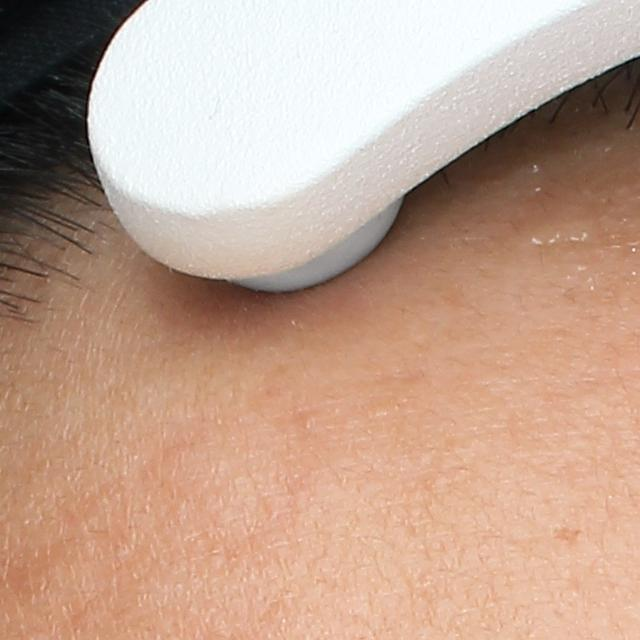comedo: (298, 410, 317, 431)
